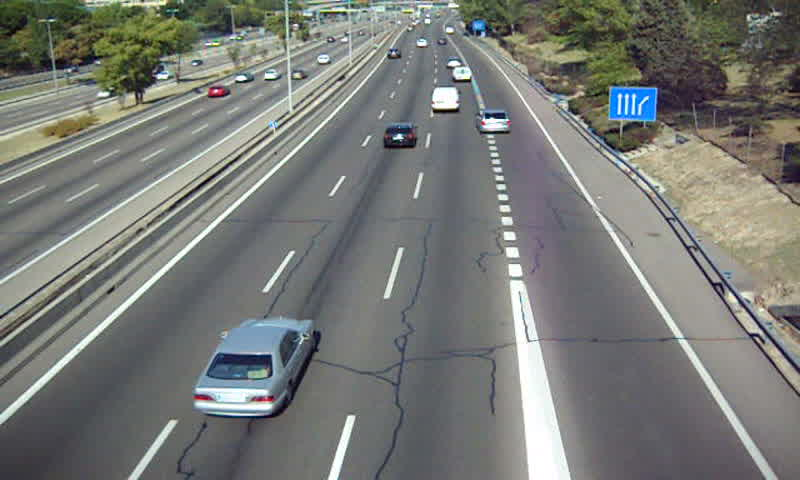car: (194, 317, 317, 417), (381, 122, 417, 149), (477, 107, 510, 133)
van: (430, 87, 461, 113), (454, 66, 472, 83)
